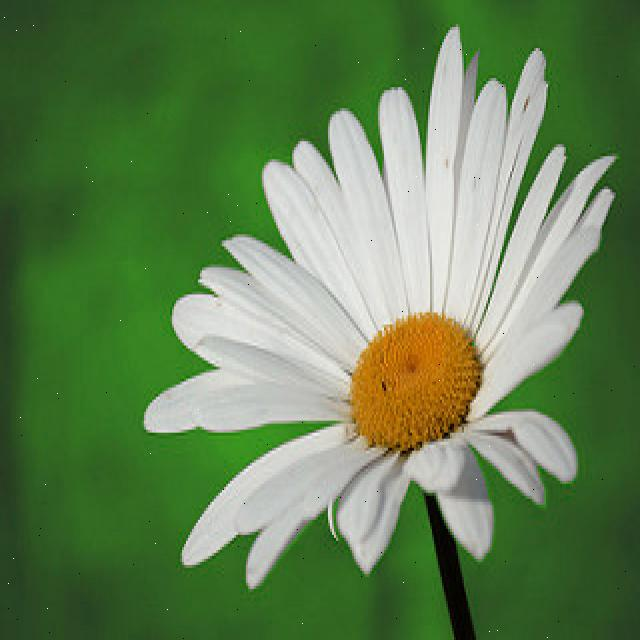Bloomed: (140, 24, 618, 589)
